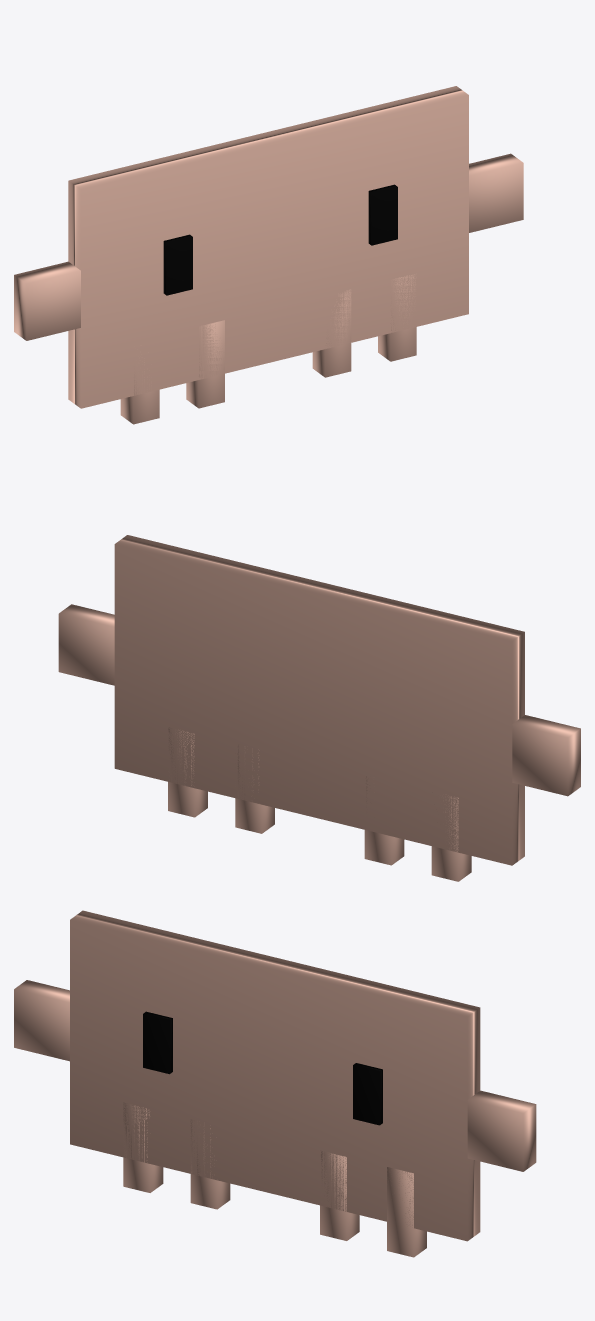
Rendered from 11_COMPLETE.glb.
3 views of the same model, one above another, from view 1: azimuth 30°, elevation 25°; view 2: azimuth 150°, elevation 25°; view 3: azimuth 330°, elevation 25° (orthographic). The views are drawn at different scales.
Parts seen in each view (by area): view 1: Body_Mesh, Claw_L_Block, Claw_R_Block, Leg_2_Block, Leg_3_Block, Leg_4_Block, Eye_L, Eye_R, Leg_1_Block; view 2: Body_Mesh, Claw_L_Block, Claw_R_Block, Leg_4_Block, Leg_1_Block, Leg_3_Block, Leg_2_Block; view 3: Body_Mesh, Claw_R_Block, Claw_L_Block, Leg_4_Block, Leg_3_Block, Leg_1_Block, Eye_L, Eye_R, Leg_2_Block.
Part boxes in pixels (<box>): Body_Mesh: <box>68,86,468,408</box>; Claw_L_Block: <box>14,261,80,340</box>; Claw_R_Block: <box>469,153,523,232</box>; Leg_2_Block: <box>186,320,224,408</box>; Leg_3_Block: <box>312,289,351,377</box>; Leg_4_Block: <box>378,274,416,361</box>; Eye_L: <box>163,234,192,295</box>; Eye_R: <box>368,184,397,245</box>; Leg_1_Block: <box>120,346,159,424</box>; Body_Mesh: <box>114,535,524,865</box>; Claw_L_Block: <box>512,715,580,796</box>; Claw_R_Block: <box>58,604,114,685</box>; Leg_4_Block: <box>168,727,207,817</box>; Leg_1_Block: <box>431,795,471,881</box>; Leg_3_Block: <box>235,744,274,833</box>; Leg_2_Block: <box>364,776,404,865</box>; Body_Mesh: <box>70,910,480,1241</box>; Claw_R_Block: <box>467,1090,536,1171</box>; Claw_L_Block: <box>14,980,69,1061</box>; Leg_4_Block: <box>387,1167,426,1257</box>; Leg_3_Block: <box>320,1151,359,1240</box>; Leg_1_Block: <box>123,1102,163,1192</box>; Eye_L: <box>143,1011,172,1074</box>; Eye_R: <box>353,1063,382,1125</box>; Leg_2_Block: <box>190,1119,230,1209</box>.
Bounding box in the file's own units: 5 × 3.04 × 0.4801.
